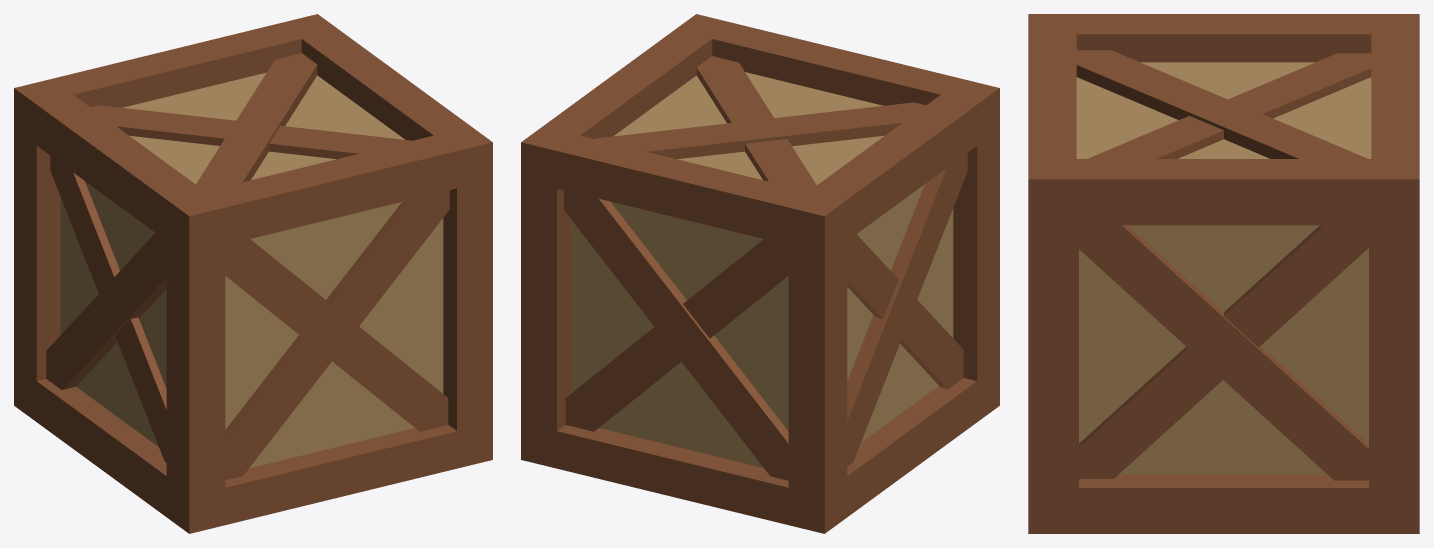
The picture shows the model from 3 angles, left to right: view 1: azimuth 30°, elevation 25°; view 2: azimuth 150°, elevation 25°; view 3: azimuth 270°, elevation 25°; orthographic projection. The views are drawn at different scales.
Visible parts, largest first — view 1: Cube; view 2: Cube; view 3: Cube.
Boxes of the visible parts, x1,y1,x2,y2 form: Cube: (14,14,492,533); Cube: (521,14,999,533); Cube: (1028,14,1419,533).
Size of the model in its own units: 200 by 200 by 200.
